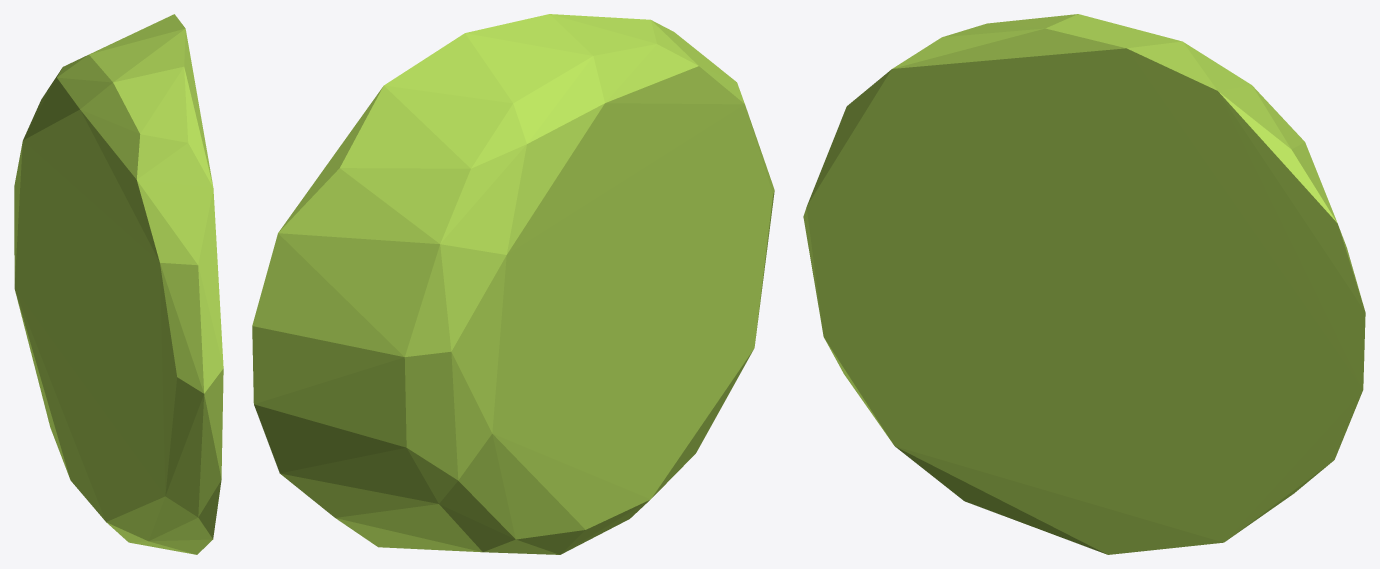
File: industrial_06397_link_2_respondable_respondable_respondable_respondable_respondable_respondable_coll_6.dae
The picture shows the model from 3 angles, left to right: view 1: azimuth 30°, elevation 25°; view 2: azimuth 150°, elevation 25°; view 3: azimuth 270°, elevation 25°; orthographic projection. The views are drawn at different scales.
Parts seen in each view (by area): view 1: node; view 2: node; view 3: node.
Boxes of the visible parts, left/top/right/bottom form: node: left=14, top=14, right=223, bottom=554; node: left=252, top=14, right=774, bottom=554; node: left=803, top=14, right=1365, bottom=554.
Bounding box in the file's own units: 0.0606 × 0.1211 × 0.1208.
